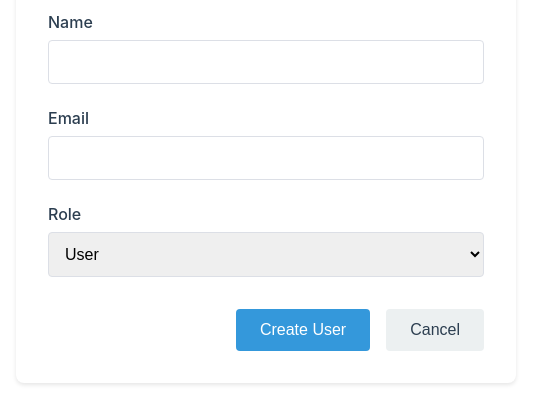
Test: UserForm › Form Interaction › disables buttons during submission
Fill form with valid data
Step 1. Type "John Doe" into the field with test id "name-input" → {"x": 266, "y": 62}, box [48,40,484,84]
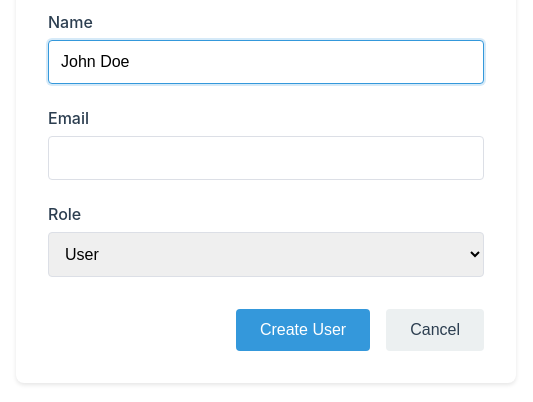
Step 2. Type "john@example.com" into the field with test id "email-input" → {"x": 266, "y": 158}, box [48,136,484,180]
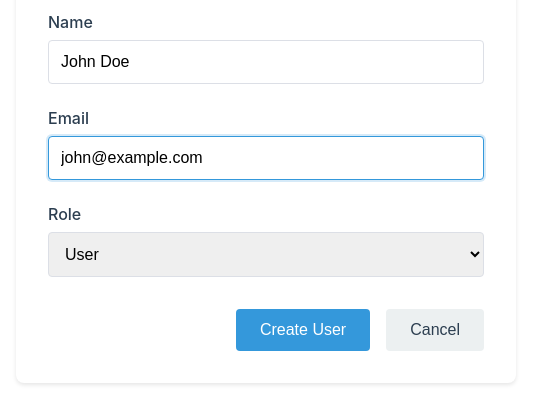
Submit form
Step 3. Click the button with test id "submit-button" → {"x": 303, "y": 330}, box [236,309,370,351]
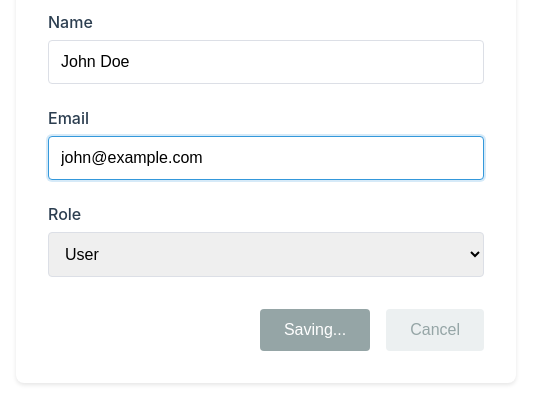
Expected: the button with test id "submit-button" is disabled, [260,309,370,351]
Expected: the button with test id "cancel-button" is disabled, [386,309,484,351]
Expected: the button with test id "submit-button" reads "Saving...", [260,309,370,351]
